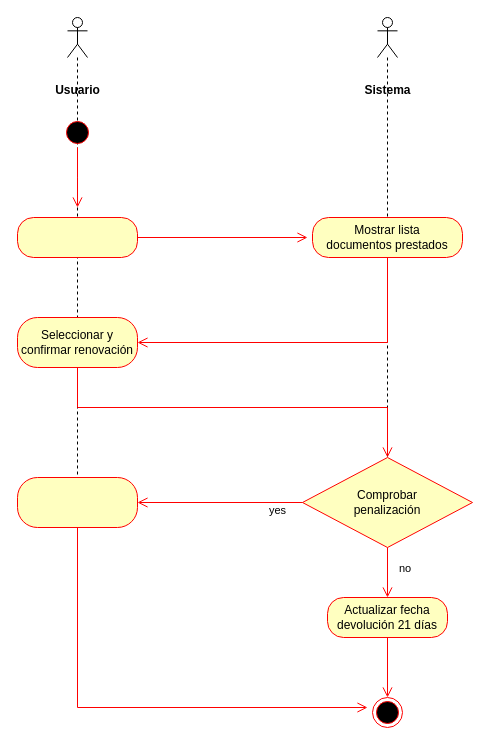
This 490x745 diagram has some shape labels left out. The shapes that lost their labels are listed below. From the top down, each one's box as (x1, y1, x2, y2) in pixels, then its label:
(16, 216, 138, 258): Identificarse
(16, 476, 138, 528): Informar penalización
